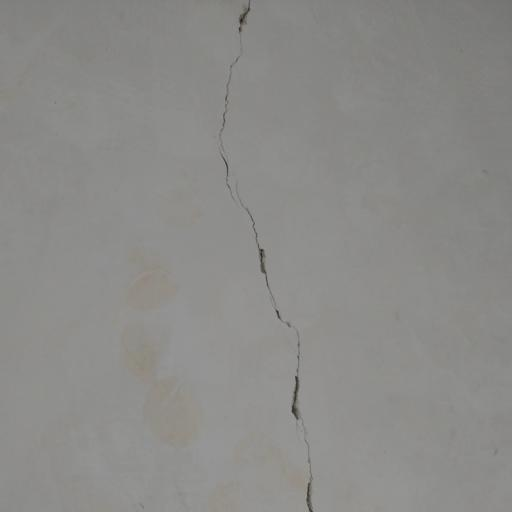major_crack: (206, 0, 369, 512)
